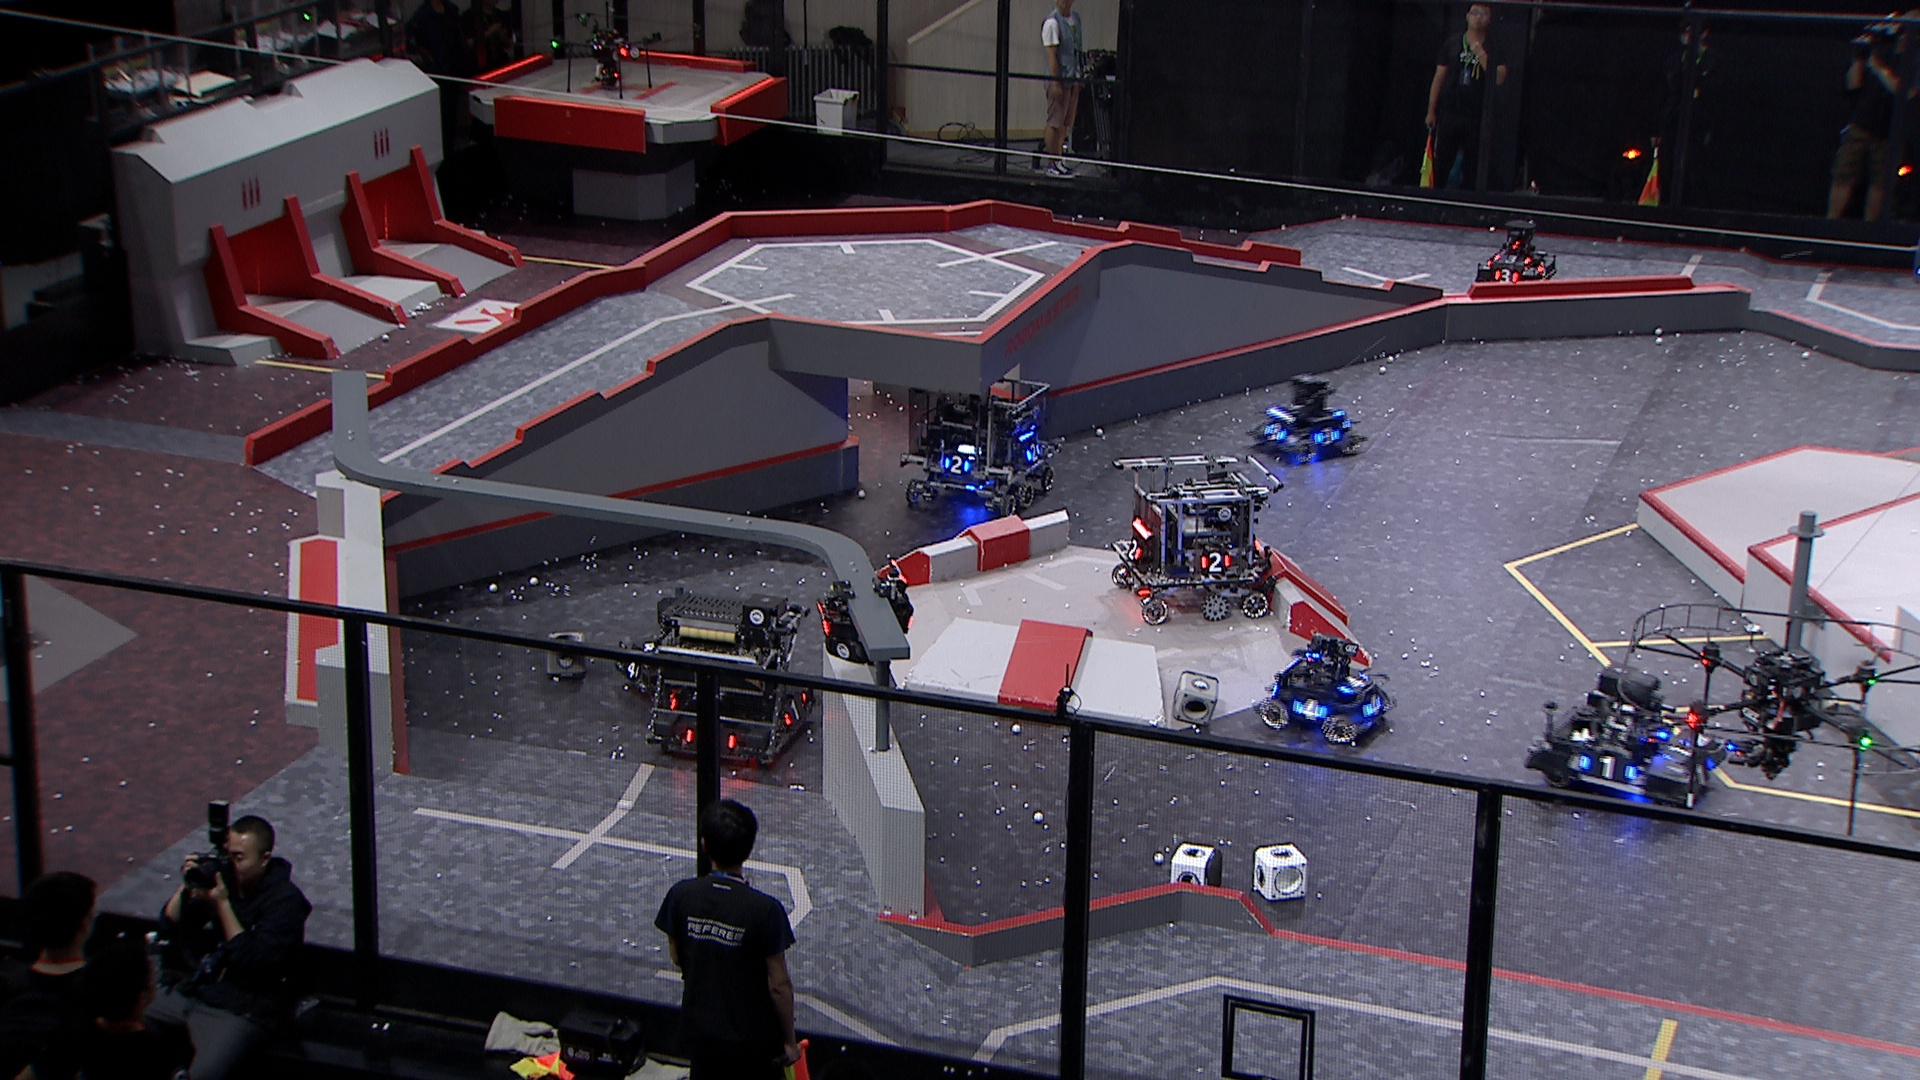armor: (1577, 752, 1636, 783), (1688, 752, 1720, 793), (783, 688, 814, 728), (1291, 694, 1325, 725), (811, 597, 835, 636), (1196, 549, 1232, 574), (1338, 669, 1367, 698), (942, 451, 973, 477), (1259, 419, 1292, 443), (617, 655, 645, 683), (1360, 690, 1386, 717), (1120, 535, 1145, 564), (1313, 427, 1342, 450), (1490, 266, 1520, 287), (1491, 249, 1531, 264), (1022, 440, 1046, 462), (1534, 258, 1552, 277)
car: (646, 582, 814, 766), (1523, 669, 1727, 816), (1110, 451, 1273, 624), (903, 368, 1058, 513), (1255, 629, 1400, 746), (615, 585, 735, 698), (1247, 367, 1361, 467), (1472, 216, 1557, 291)
watcher: (812, 553, 911, 669)
